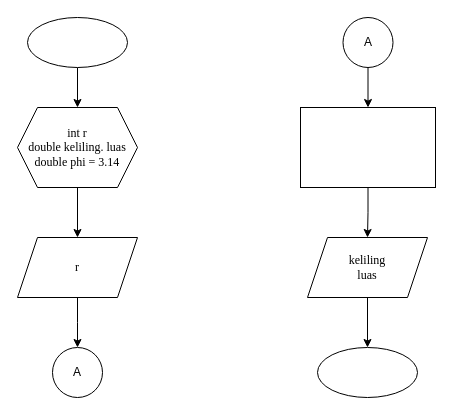
This 453x415 diagram has some shape labels left out. The centre of each missing label's shape, as x and y in pixels:
end: point (367, 372)
keliling = 2*phi*r luas = phi*r *r: point (368, 147)
start: point (77, 42)
